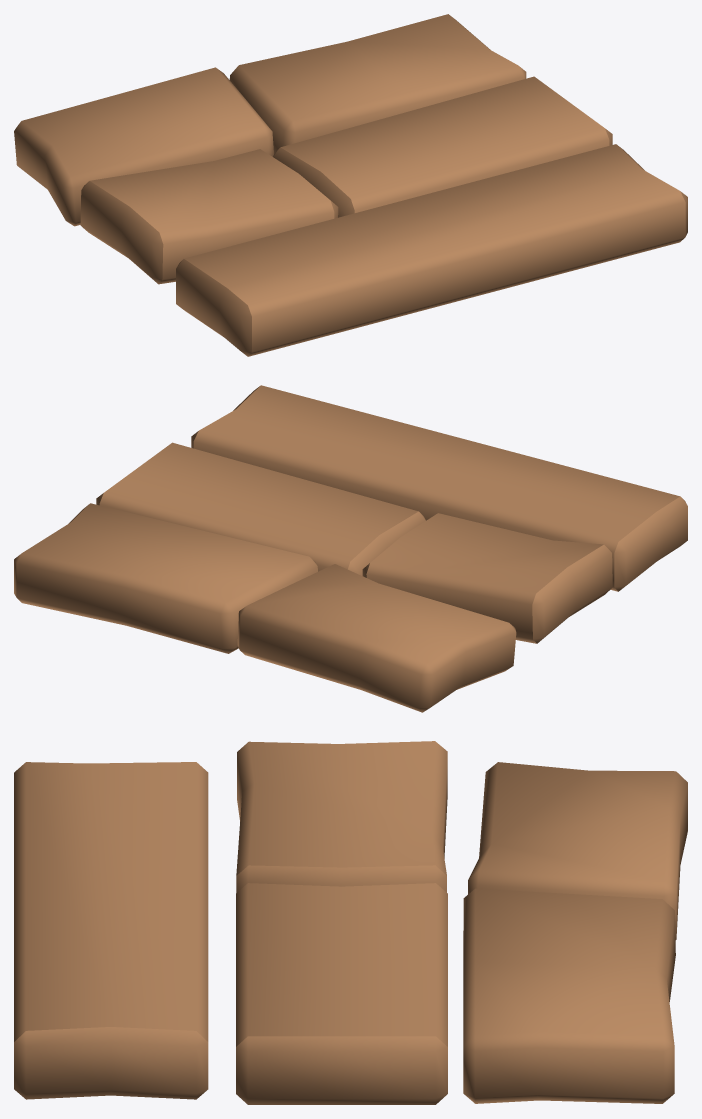
The model's file is SM_Planks_3.fbx.
3 views of the same model, one above another, from view 1: azimuth 30°, elevation 25°; view 2: azimuth 150°, elevation 25°; view 3: azimuth 270°, elevation 25° (orthographic). The views are drawn at different scales.
Visible parts, largest first — view 1: SM_Planks_3; view 2: SM_Planks_3; view 3: SM_Planks_3.
Part boxes in pixels (box(x1,y1,x2,y2)): SM_Planks_3: box(14, 14, 687, 356); SM_Planks_3: box(14, 385, 687, 712); SM_Planks_3: box(14, 741, 687, 1104).
Size of the model in its own units: 2.36 by 0.3182 by 2.24.
